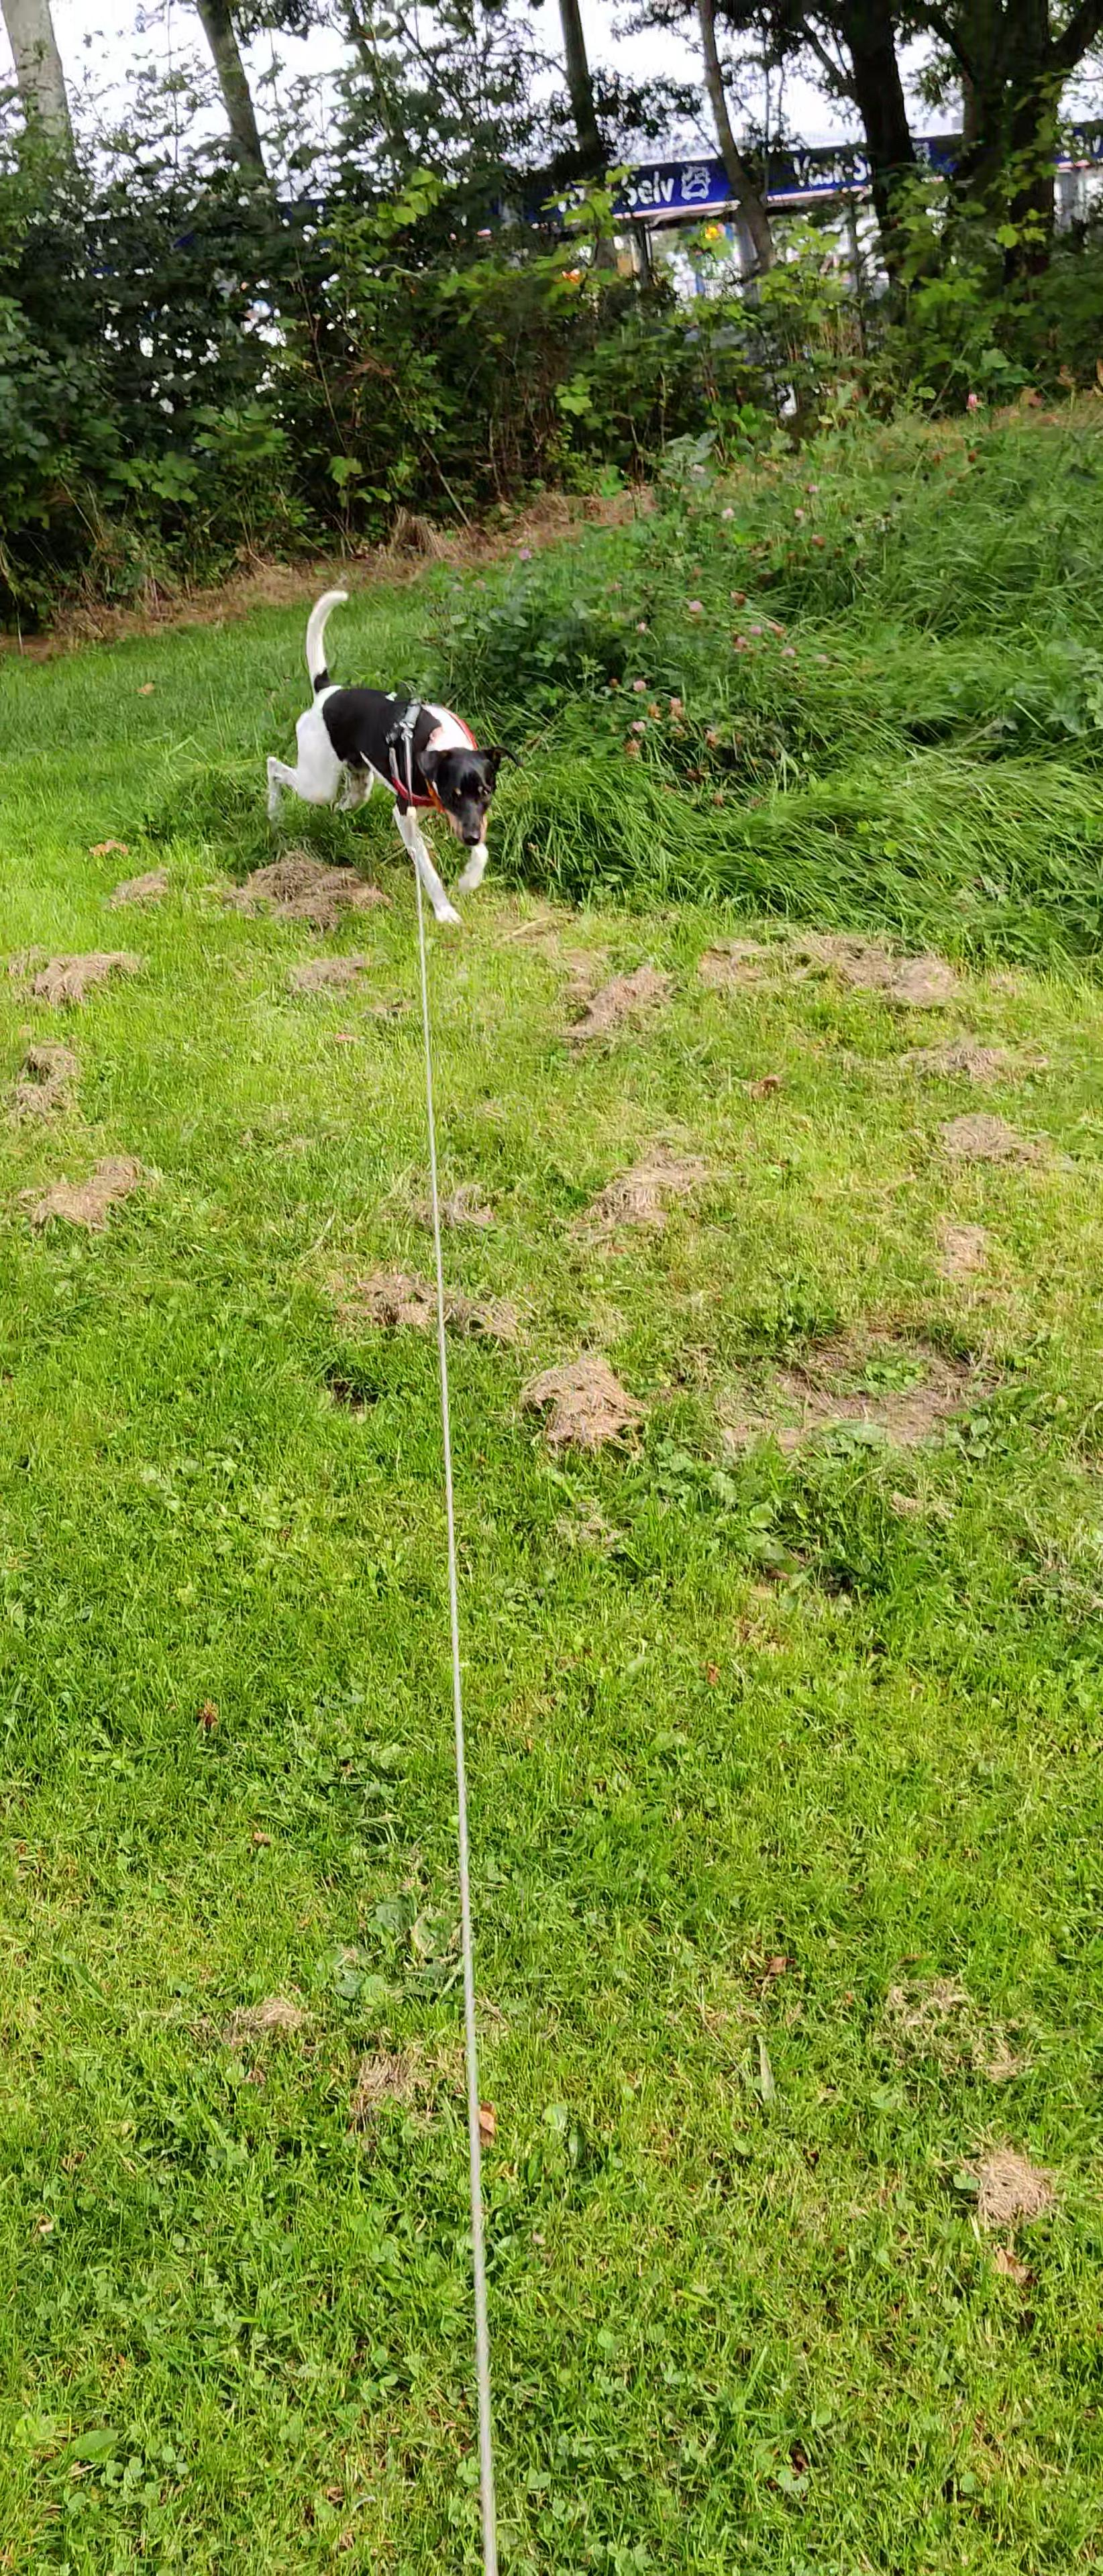Dog: (260, 585, 526, 923)
